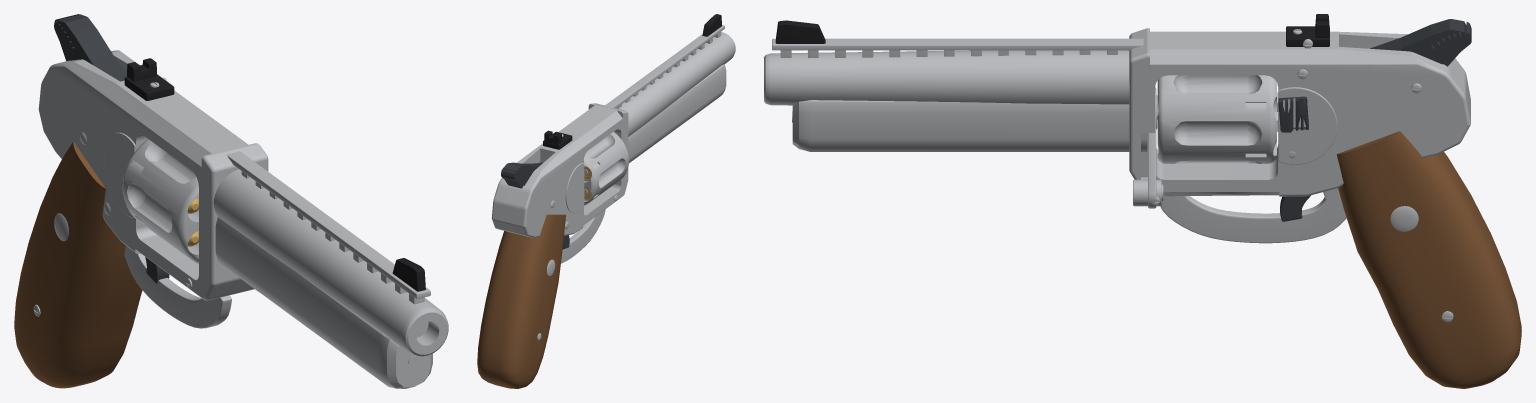
File: revolver.glb
3 views of the same model, side by side, from view 1: azimuth 30°, elevation 25°; view 2: azimuth 150°, elevation 25°; view 3: azimuth 270°, elevation 25° (orthographic). The views are drawn at different scales.
Parts seen in each view (by area): view 1: mesh_body, mesh_cylinder, mesh_hammer; view 2: mesh_body, mesh_cylinder, mesh_hammer; view 3: mesh_body, mesh_cylinder, mesh_hammer, mesh_crane.
Part boxes in pixels (left/top/right/bottom): mesh_body: left=14, top=50, right=448, bottom=388; mesh_cylinder: left=122, top=139, right=198, bottom=263; mesh_hammer: left=54, top=14, right=126, bottom=81; mesh_body: left=477, top=14, right=735, bottom=388; mesh_cylinder: left=584, top=132, right=628, bottom=205; mesh_hammer: left=501, top=162, right=542, bottom=188; mesh_body: left=764, top=14, right=1521, bottom=388; mesh_cylinder: left=1157, top=75, right=1278, bottom=163; mesh_hammer: left=1370, top=19, right=1471, bottom=66; mesh_crane: left=1133, top=87, right=1163, bottom=208.
Size of the model in its own units: 0.042 by 0.1532 by 0.2926.
